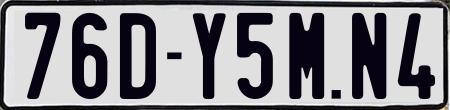4: (397, 12, 433, 102)
5: (237, 10, 278, 96)
6: (69, 11, 104, 98)
7: (25, 12, 63, 102)
D: (118, 13, 158, 100)
M: (288, 13, 323, 103)
N: (351, 12, 391, 99)
Y: (192, 13, 226, 99)
